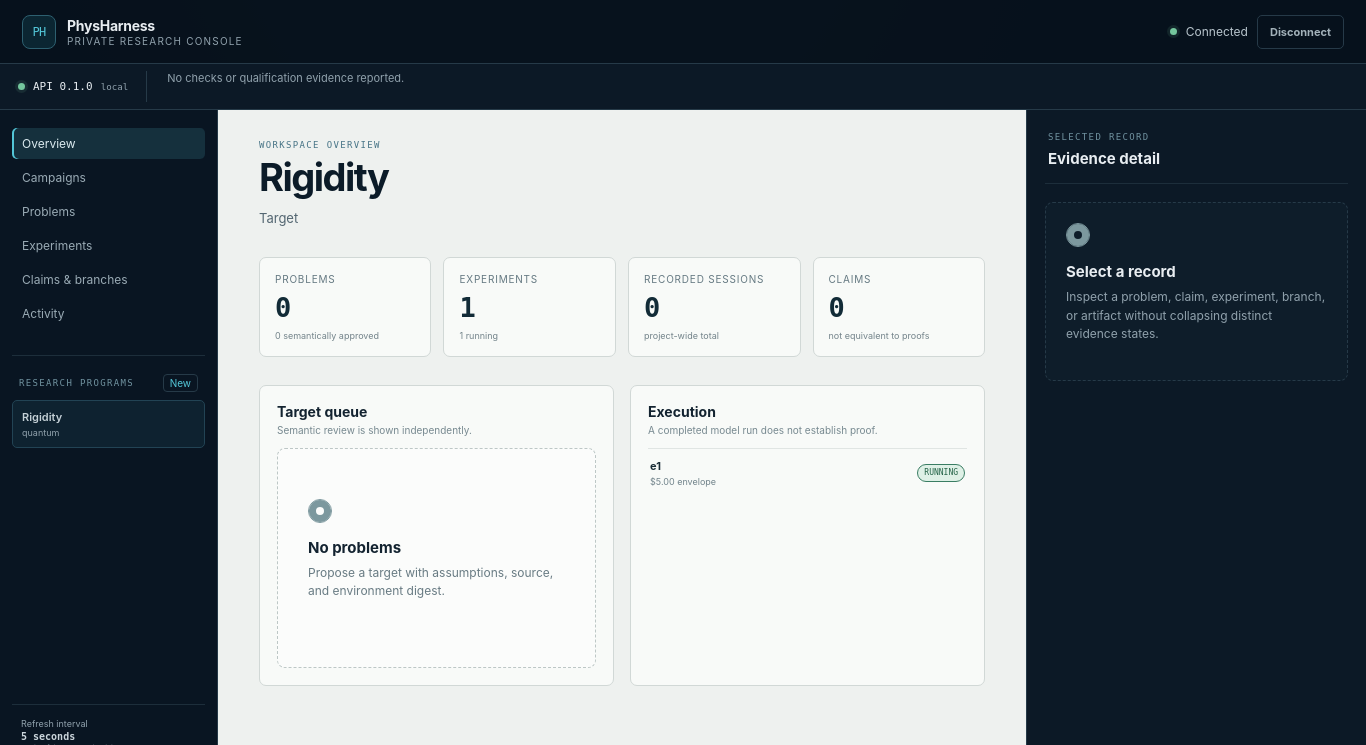
reloads ledger when the same experiment is explicitly reselected
This screenshot has width=1366, height=745.
Click the button with aria-label "open experiment rigidity" at [695, 481], box [648,448,967,497]
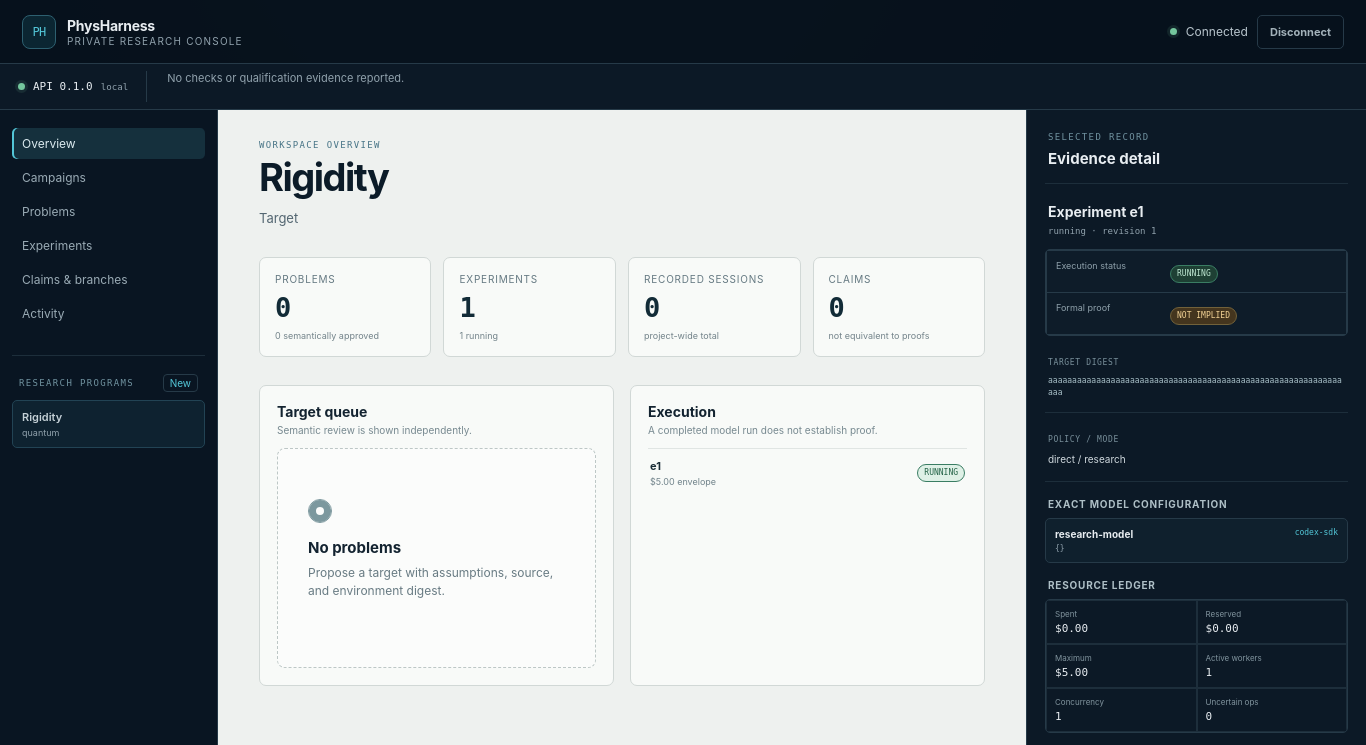
Click the button with aria-label "open experiment rigidity" at [695, 481], box [648,448,967,497]
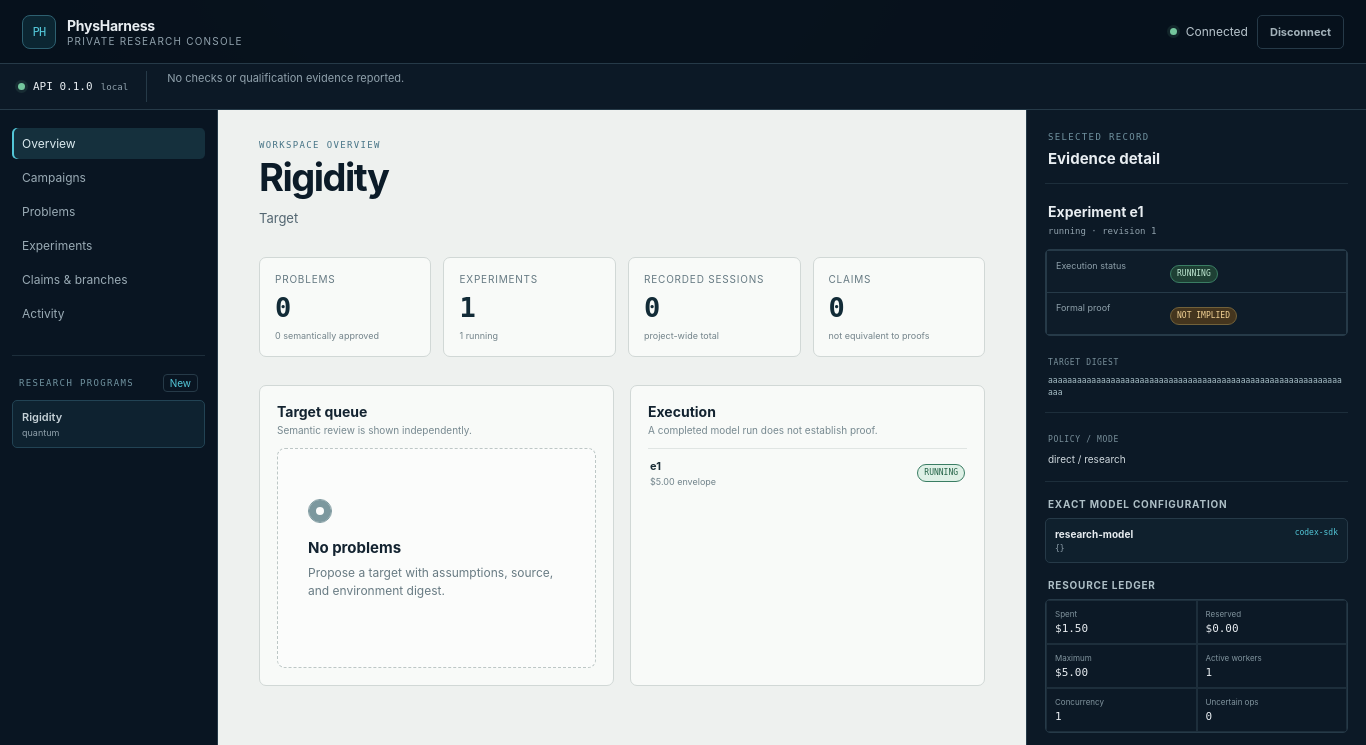
Check: the text "$1.50" is shown, box [1055,622,1088,635]
